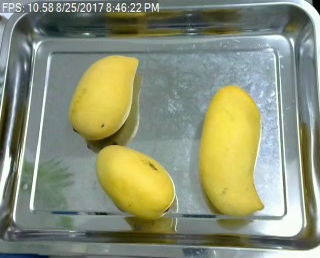Mango: (199, 84, 266, 215), (92, 142, 177, 218), (65, 55, 139, 142)
